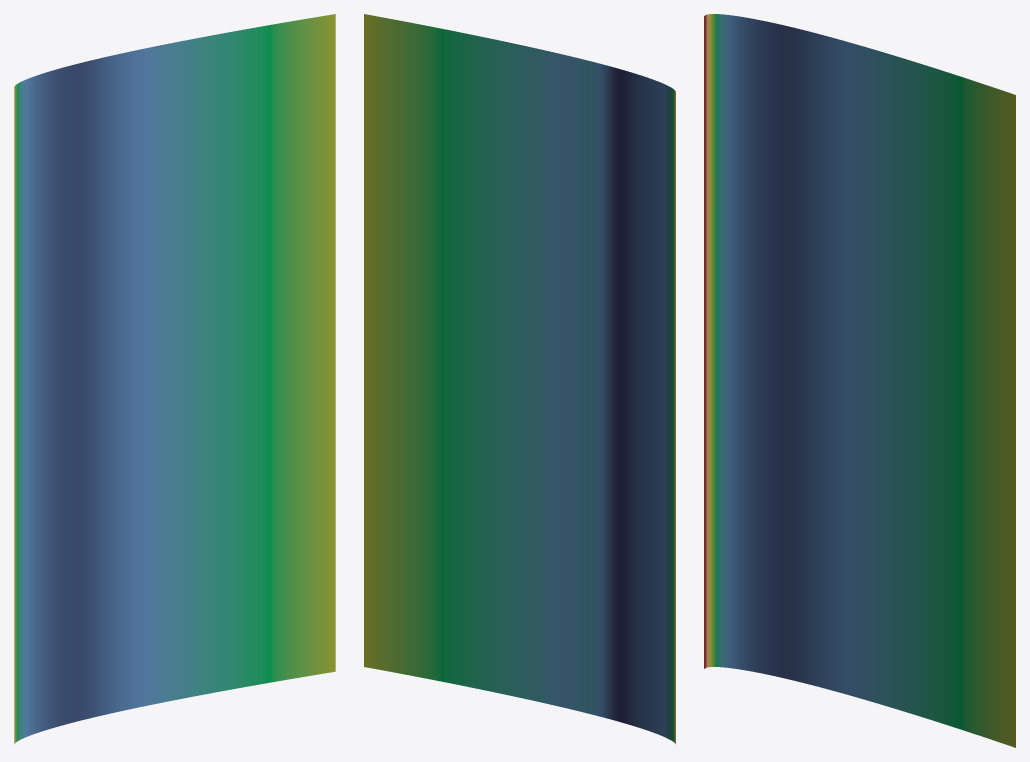
Rendered from morphing_wing_5.glb.
3 views of the same model, side by side, from view 1: azimuth 30°, elevation 25°; view 2: azimuth 150°, elevation 25°; view 3: azimuth 330°, elevation 25° (orthographic).
Visible parts, largest first — view 1: part_0_0; view 2: part_0_0; view 3: part_0_0.
Boxes of the visible parts, x1,y1,x2,y2 form: part_0_0: (14,14,335,743); part_0_0: (364,14,675,744); part_0_0: (704,14,1015,747).
Size of the model in its own units: 1.01 by 2 by 0.1209.
